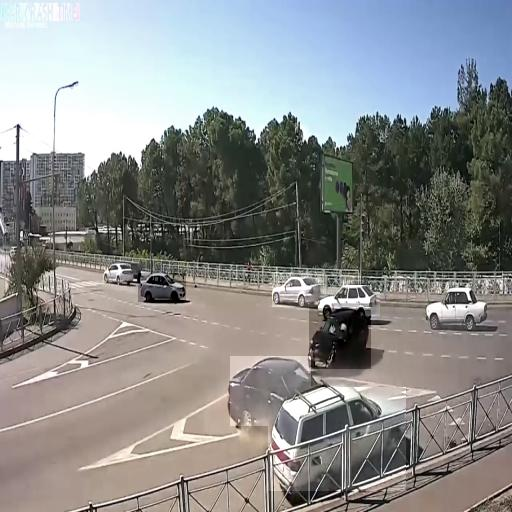小汽车: (268, 388, 406, 492), (230, 356, 311, 426), (309, 308, 371, 369), (424, 285, 488, 334), (318, 286, 380, 318), (272, 272, 321, 307), (138, 273, 186, 302), (102, 260, 136, 286)
